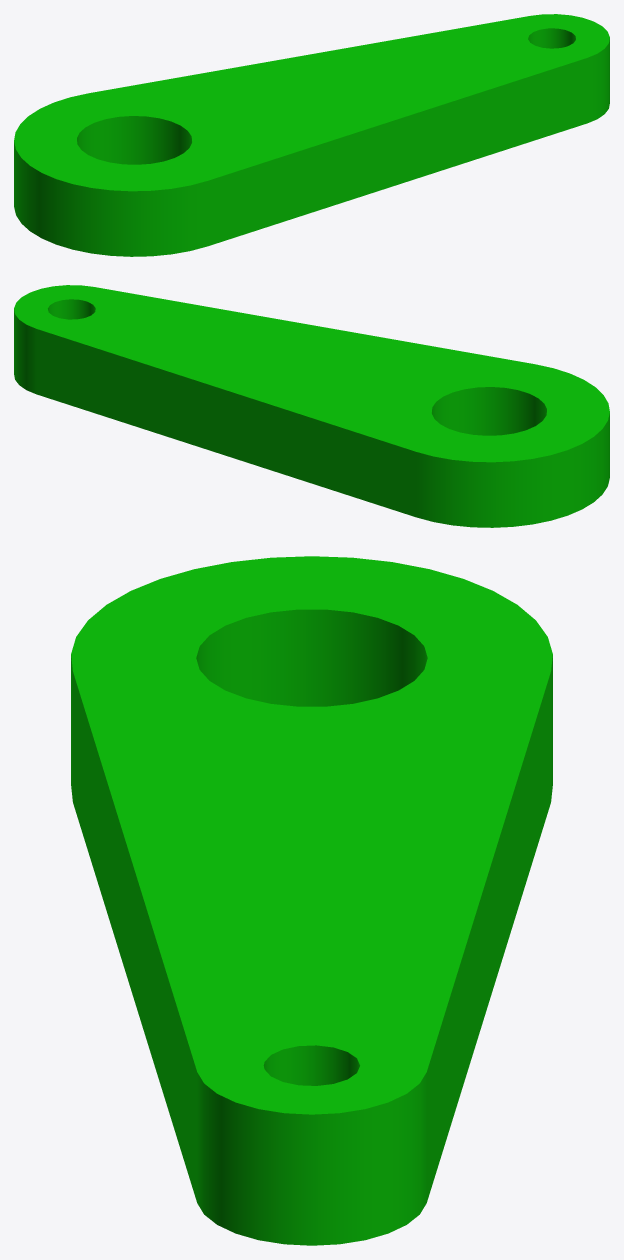
The model's file is Crank.obj.
3 renders of one model, top to bottom at view 1: azimuth 30°, elevation 25°; view 2: azimuth 150°, elevation 25°; view 3: azimuth 270°, elevation 25°, orthographic. The views are drawn at different scales.
Visible parts, largest first — view 1: mesh 1 Crank; view 2: mesh 1 Crank; view 3: mesh 1 Crank.
Boxes of the visible parts, box(x1,y1,x2,y2) form: mesh 1 Crank: box(14, 14, 609, 256); mesh 1 Crank: box(14, 285, 609, 527); mesh 1 Crank: box(71, 556, 552, 1245).
Bounding box in the file's own units: 0.0685 × 0.0075 × 0.025.
